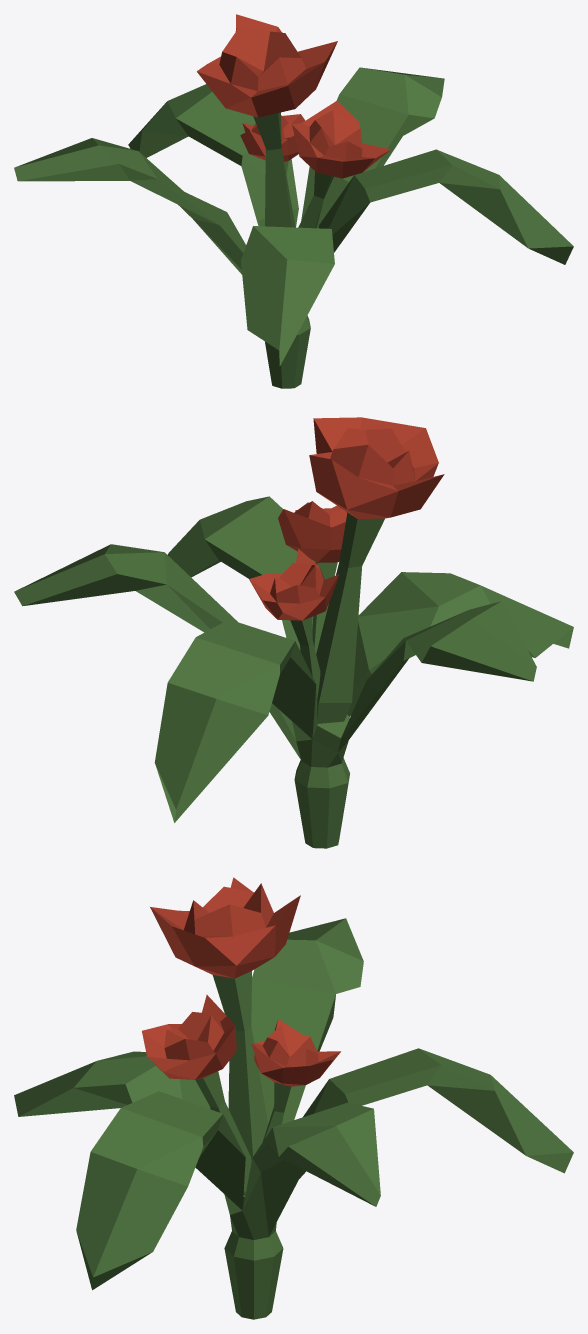
The model's file is Honghuacao.FBX.
3 views of the same model, one above another, from view 1: azimuth 30°, elevation 25°; view 2: azimuth 150°, elevation 25°; view 3: azimuth 270°, elevation 25° (orthographic). The views are drawn at different scales.
Visible parts, largest first — view 1: huacao; view 2: huacao; view 3: huacao.
Boxes of the visible parts, x1,y1,x2,y2 form: huacao: [14, 14, 573, 388]; huacao: [14, 417, 573, 848]; huacao: [14, 877, 573, 1319].
Size of the model in its own units: 10.54 by 8.2 by 10.27.
